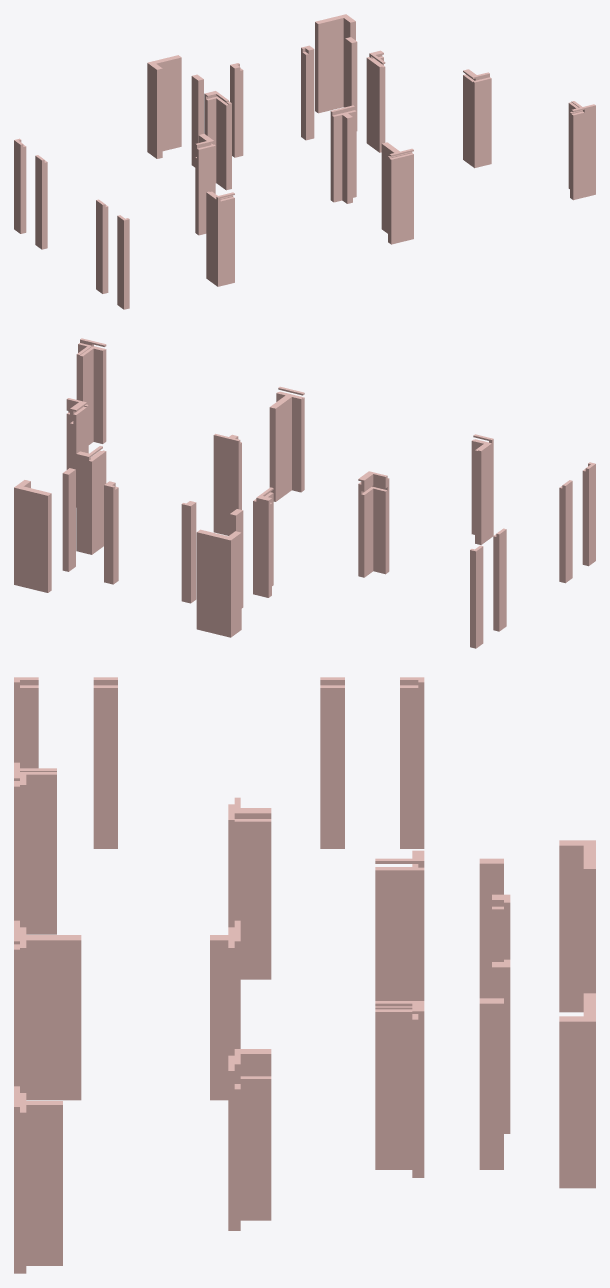
The picture shows the model from 3 angles, top to bottom: view 1: azimuth 30°, elevation 25°; view 2: azimuth 150°, elevation 25°; view 3: azimuth 270°, elevation 25°; orthographic projection. The views are drawn at different scales.
Parts seen in each view (by area): view 1: C_Z; view 2: C_Z; view 3: C_Z.
Boxes of the visible parts, x1,y1,x2,y2 form: C_Z: [14, 14, 595, 309]; C_Z: [14, 338, 595, 648]; C_Z: [14, 677, 595, 1273].
Bounding box in the file's own units: 16.6 × 3 × 9.5.
